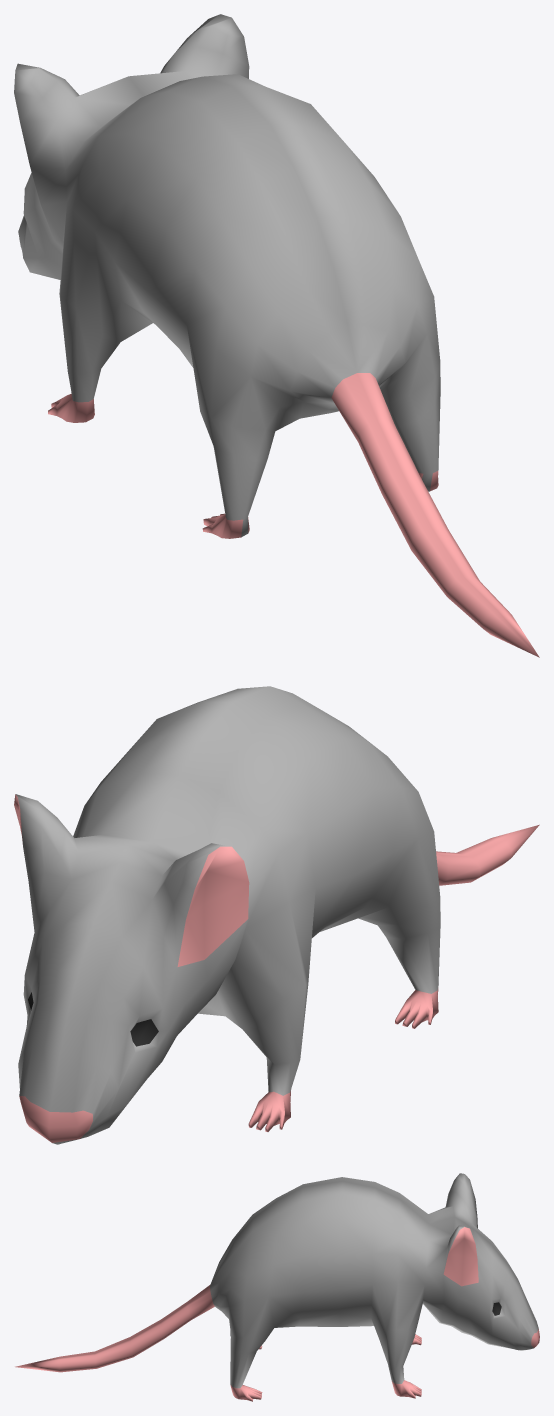
File: rat.obj
3 views of the same model, one above another, from view 1: azimuth 30°, elevation 25°; view 2: azimuth 150°, elevation 25°; view 3: azimuth 270°, elevation 25° (orthographic). The views are drawn at different scales.
Visible parts, largest first — view 1: Rat1; view 2: Rat1; view 3: Rat1.
Part boxes in pixels (x1,y1,x2,y2): Rat1: (14, 14, 539, 657); Rat1: (14, 686, 539, 1144); Rat1: (15, 1173, 539, 1401).
Bounding box in the file's own units: 0.7185 × 0.9968 × 2.49.
1 material, 1 textured.
